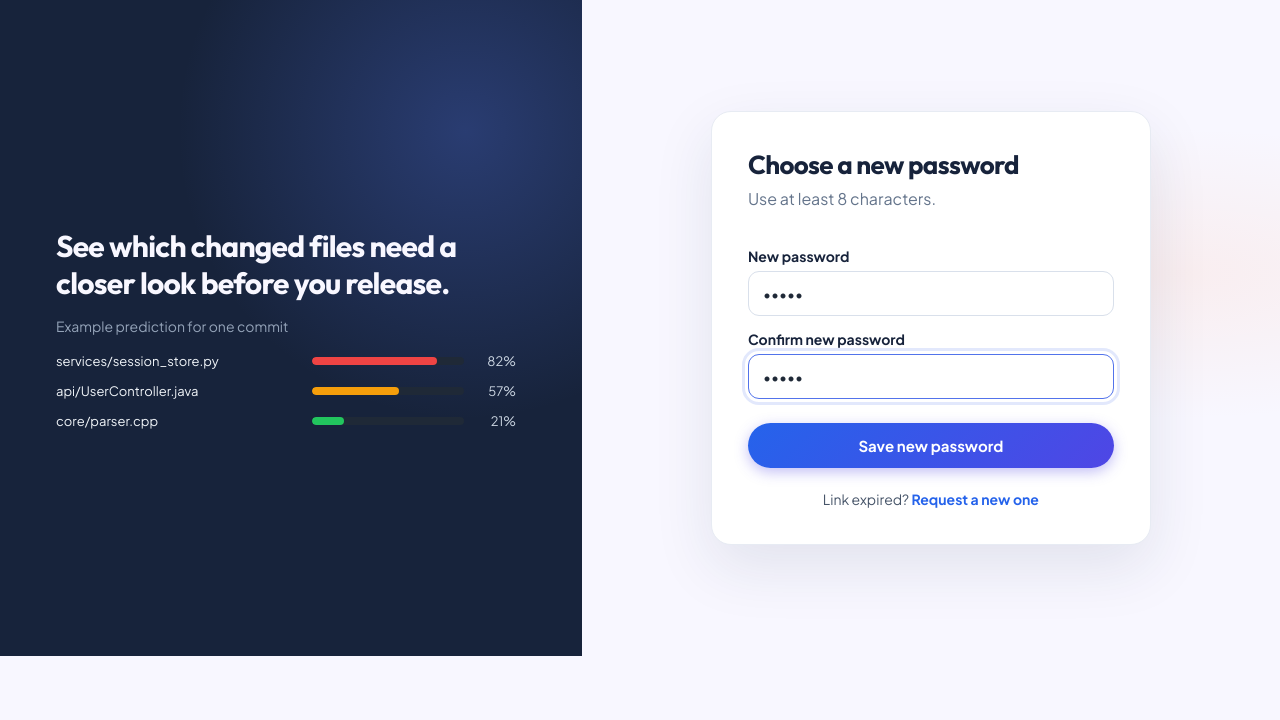
it: authentication pages › rejects a short or mismatched reset password before calling the API
Earlier steps of the test are not shown.
Click the button "Save new password" at (931, 446), box [748,423,1114,468]
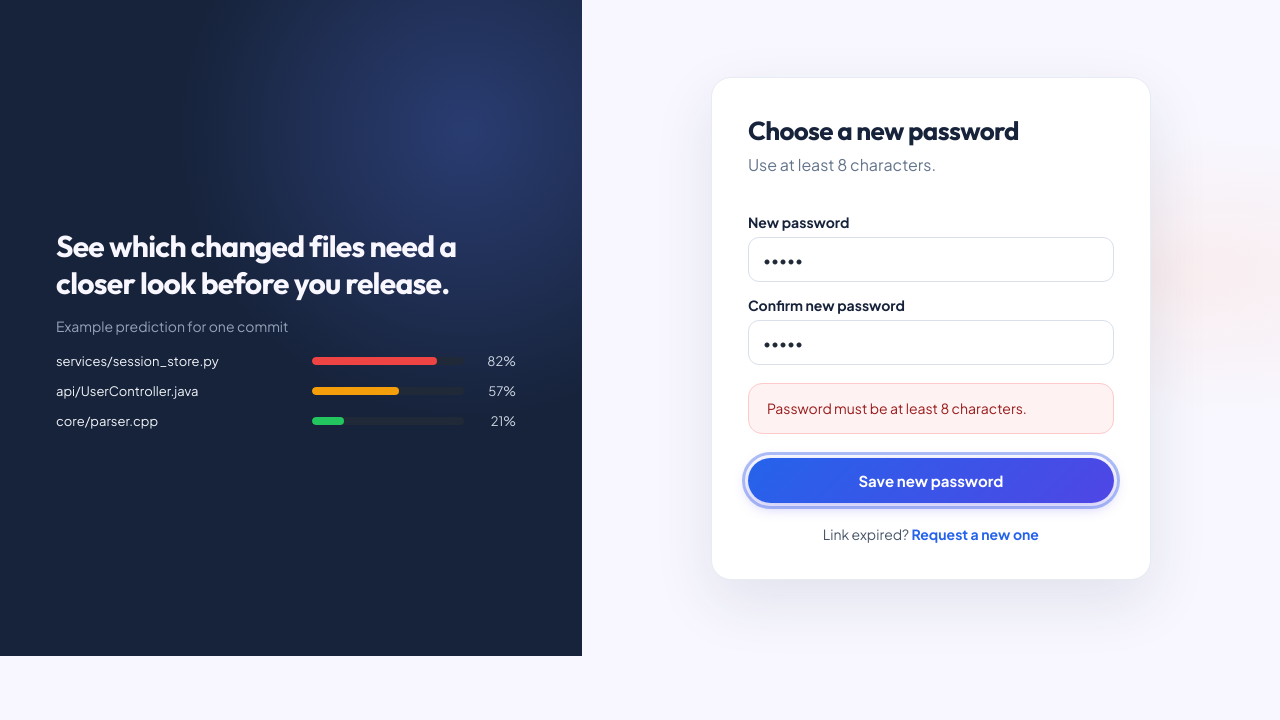
Expected: the message reads "Password must be at least 8 characters.", [767,398,1027,416]
Clear the password field labelled "New password" at (931, 259), box [748,236,1114,282]
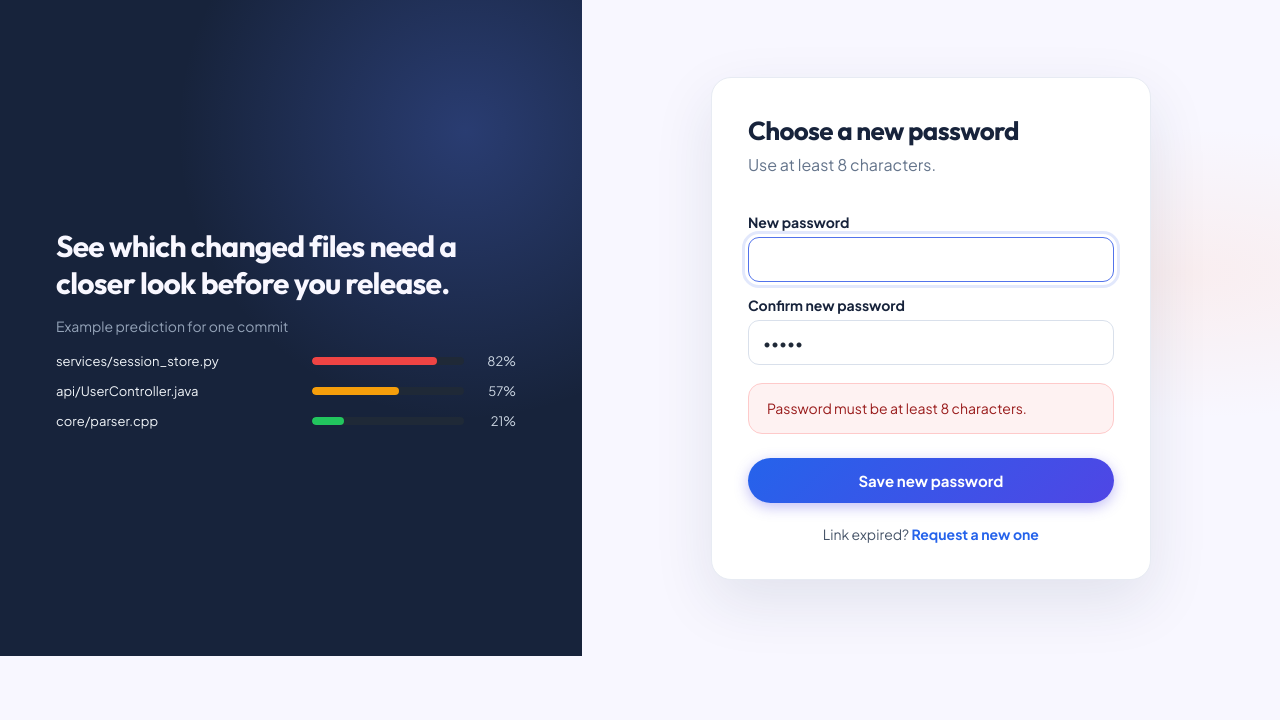
Clear the password field labelled "Confirm new password" at (931, 342), box [748,320,1114,364]
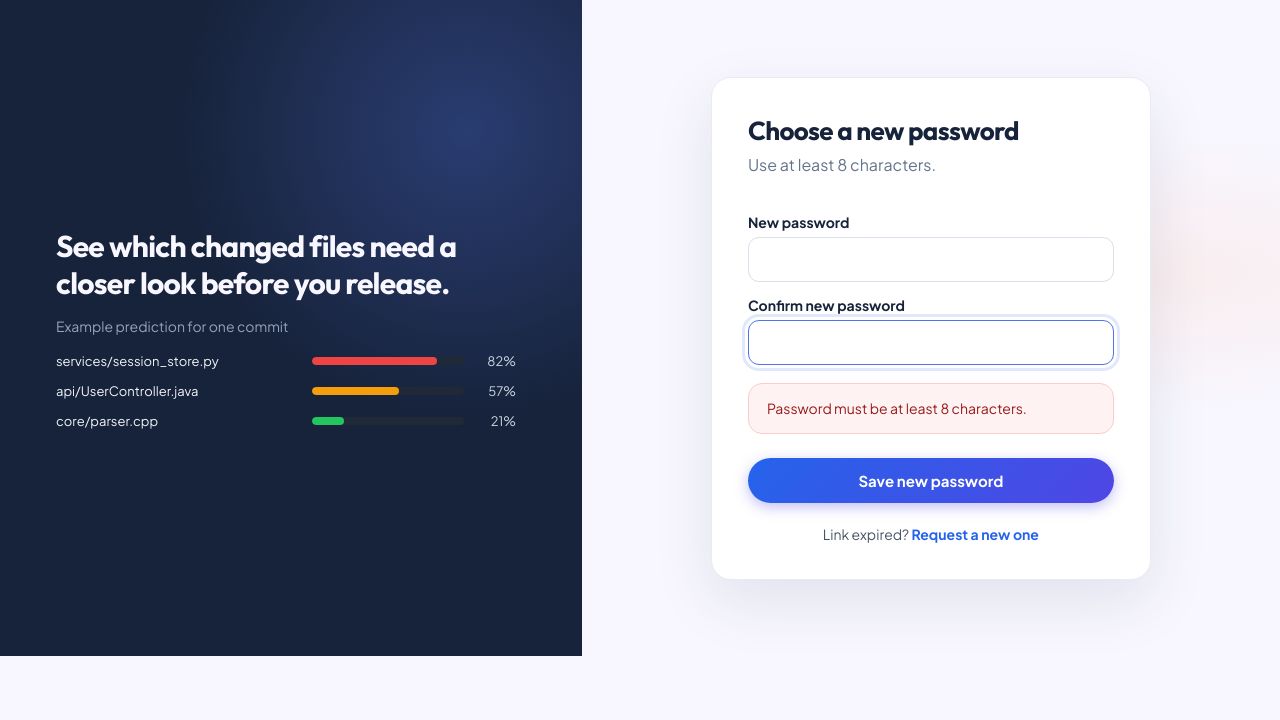
Type "Test-pass-123" into the password field labelled "New password" at (931, 259), box [748,236,1114,282]
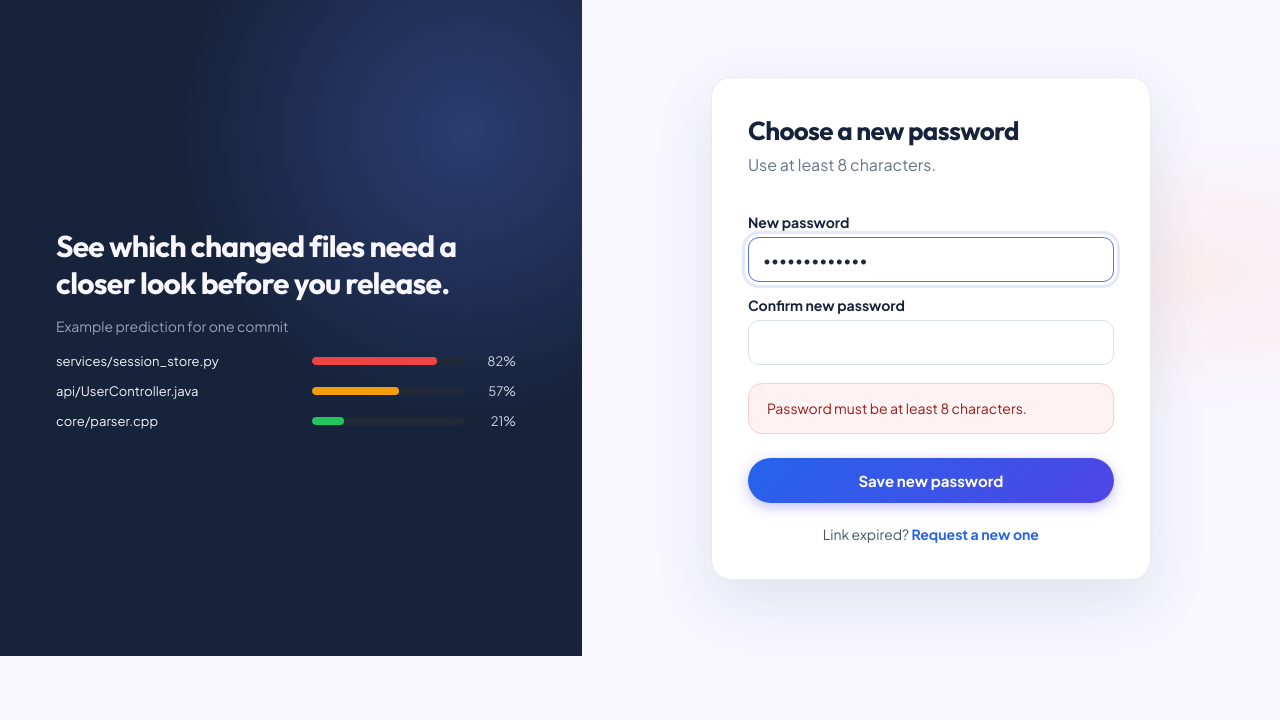
Type "Other-pass-123" into the password field labelled "Confirm new password" at (931, 342), box [748,320,1114,364]
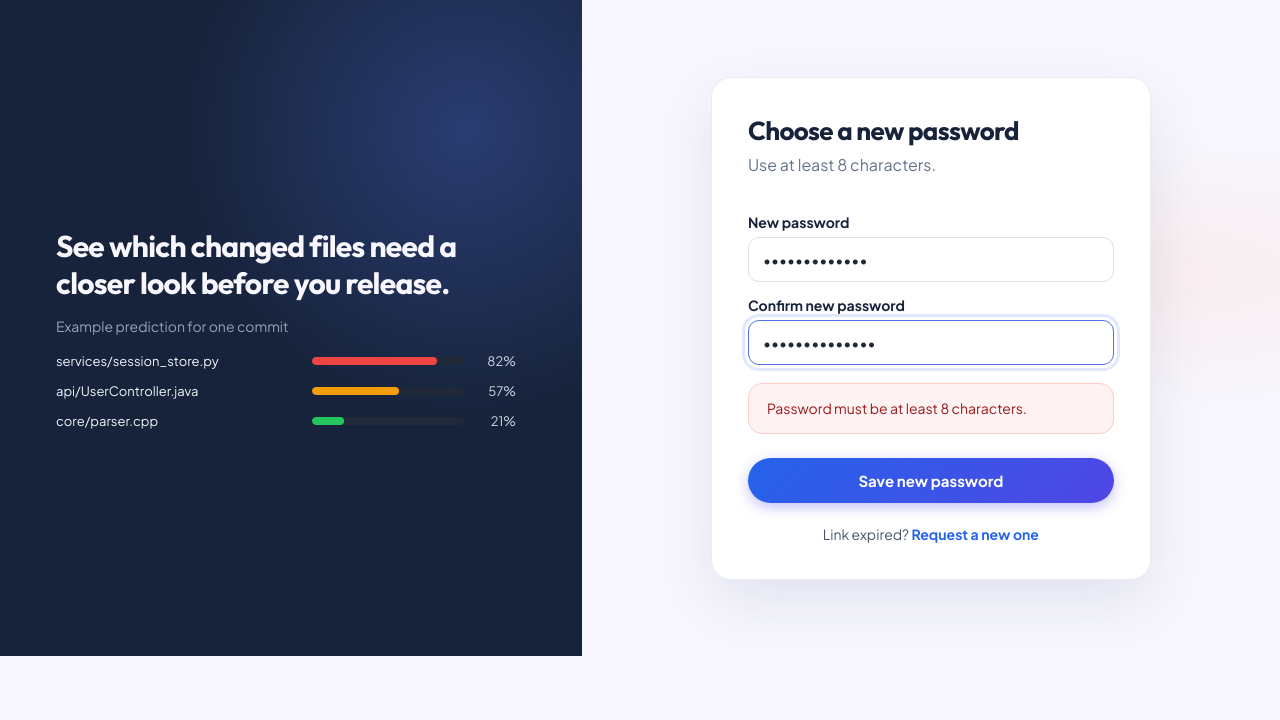
Click the button "Save new password" at (931, 480), box [748,458,1114,502]
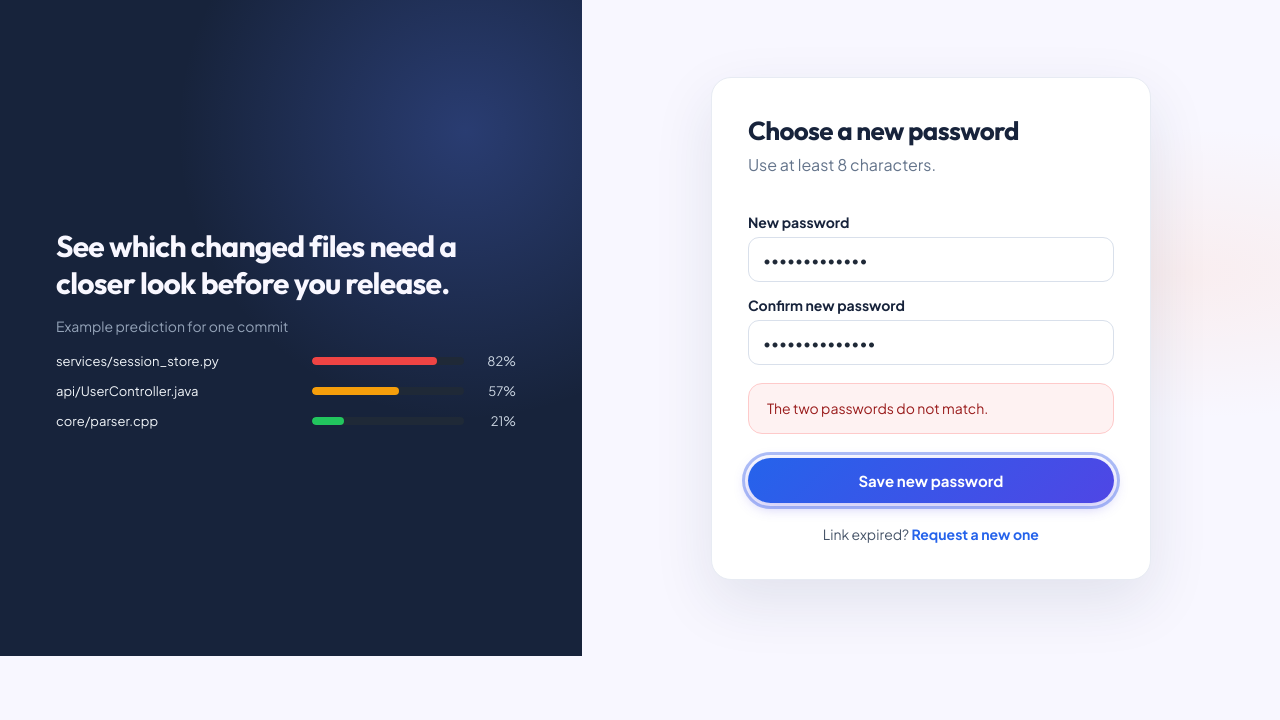
Expected: the message reads "The two passwords do not match.", [767,398,988,416]
